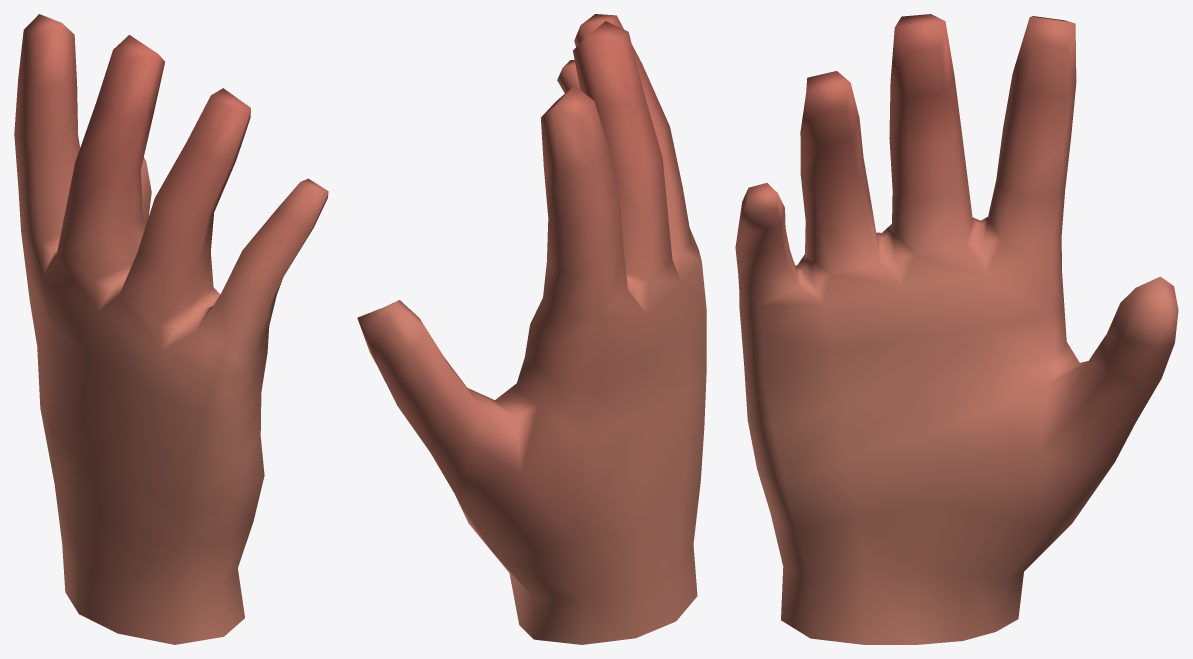
The model's file is Mano_Destra.fbx.
3 renders of one model, left to right at view 1: azimuth 30°, elevation 25°; view 2: azimuth 150°, elevation 25°; view 3: azimuth 270°, elevation 25°, orthographic. The views are drawn at different scales.
Parts seen in each view (by area): view 1: Hand2_Dx; view 2: Hand2_Dx; view 3: Hand2_Dx.
Boxes of the visible parts, box(x1,y1,x2,y2) form: Hand2_Dx: box(14, 14, 328, 644); Hand2_Dx: box(357, 14, 706, 644); Hand2_Dx: box(735, 14, 1178, 644).
Bounding box in the file's own units: 4.62 × 13.02 × 8.87.
